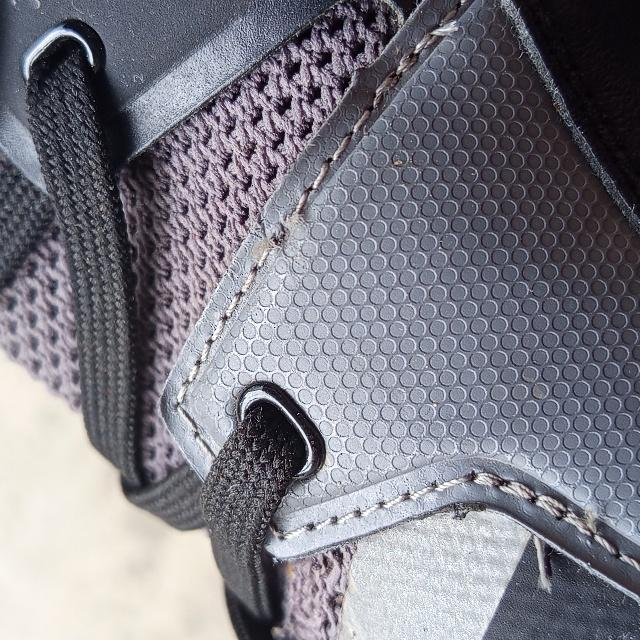broken: (245, 200, 330, 272)
